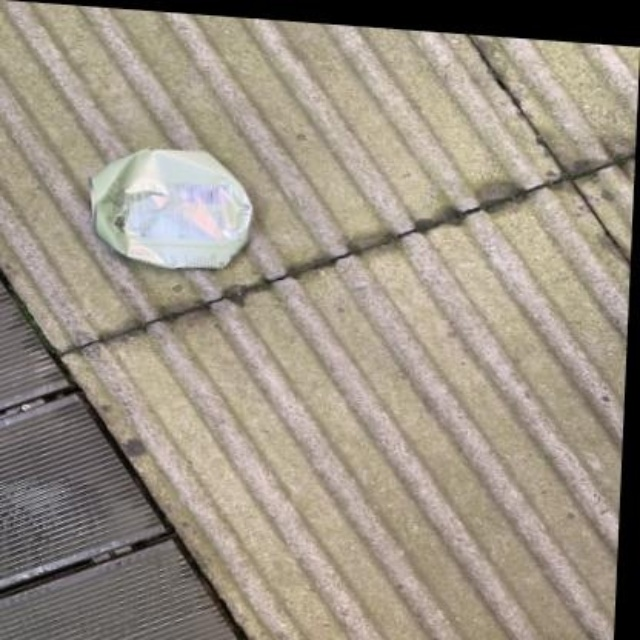trash: (91, 149, 251, 268)
